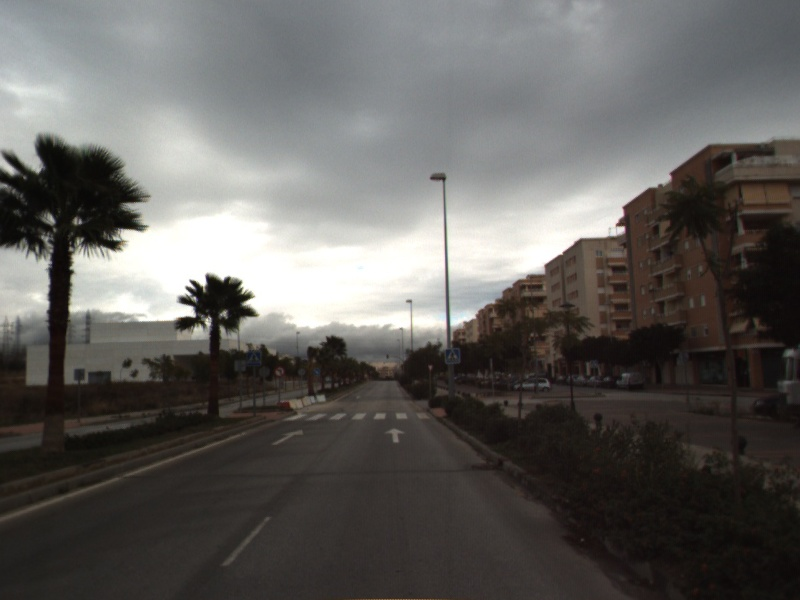STRAIGHT: (270, 427, 306, 447), (383, 426, 407, 444)
